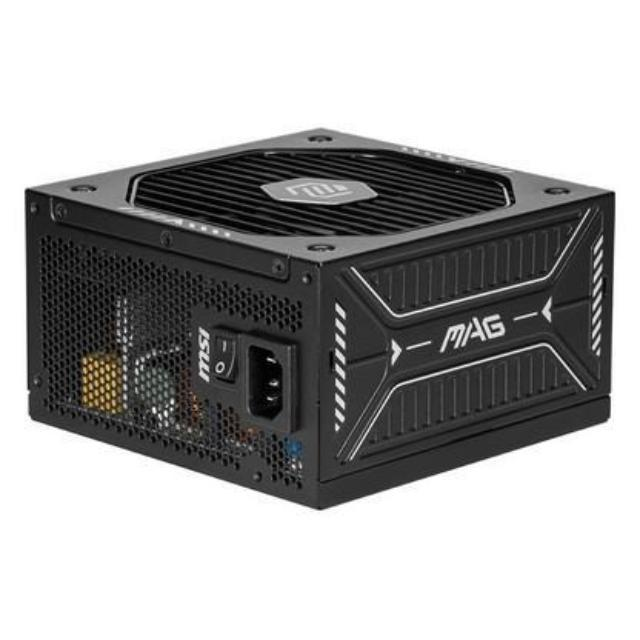PSU: (12, 119, 618, 504)
